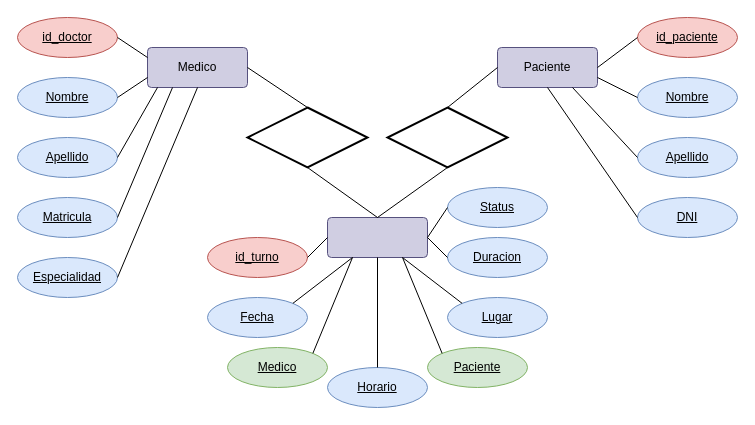
Image size: 755x425. Some labels were removed from this diagram. The centre of each missing label's shape, as x and y in pixels:
Necesita: pixel 447 137
Otorga: pixel 307 137
Turno: pixel 377 237
